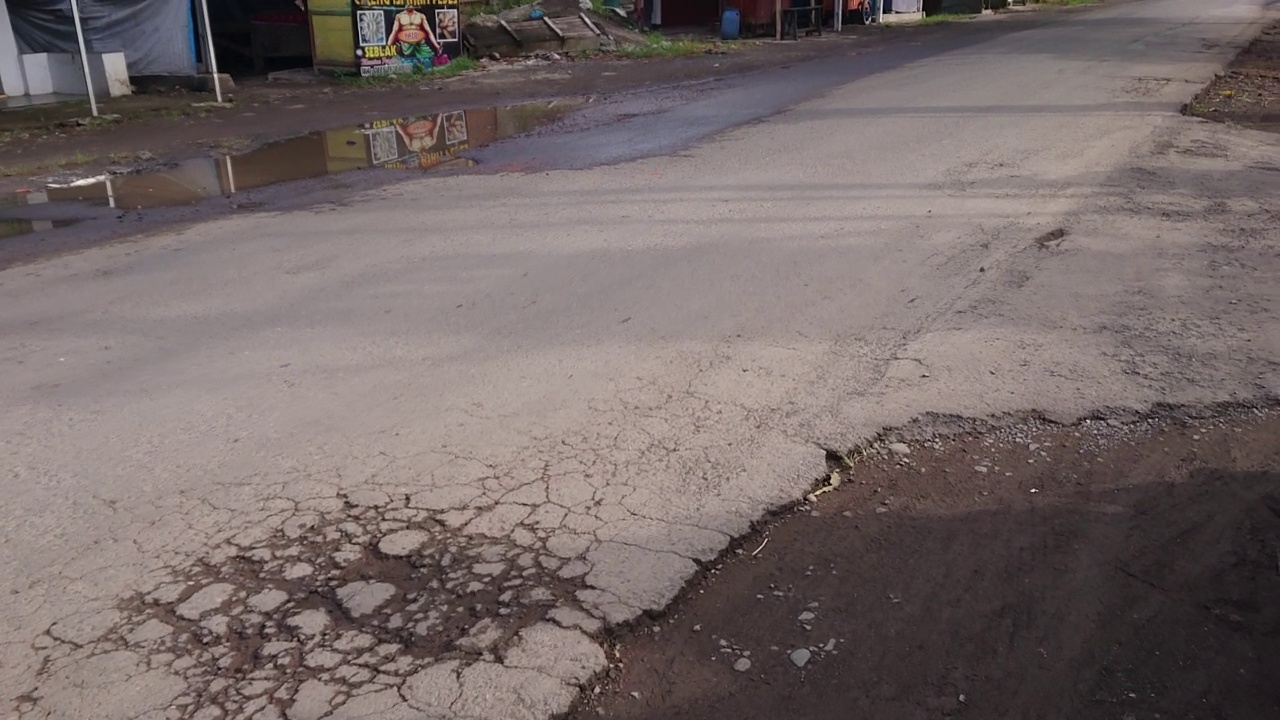Retak: (161, 437, 593, 716)
